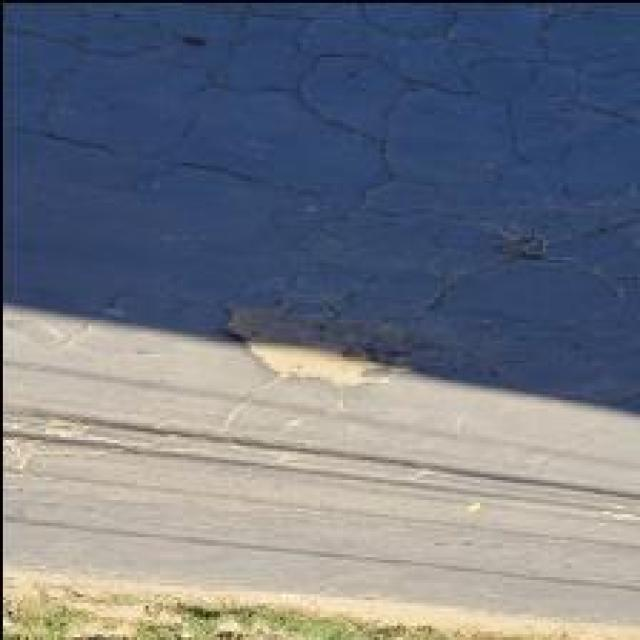PIEL DE COCODRILO: (4, 0, 639, 435)
